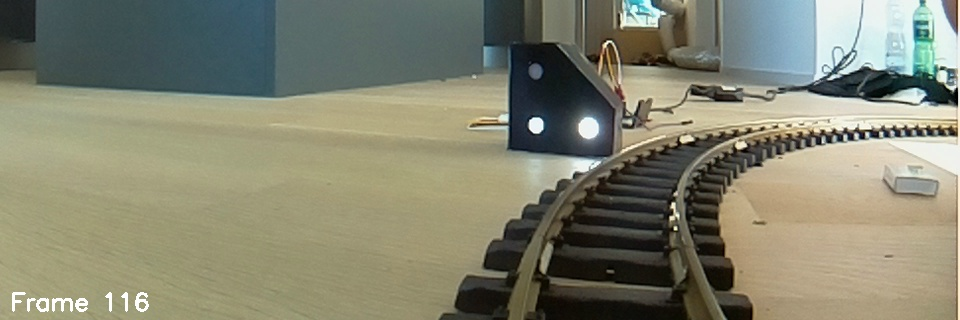Halt: (504, 37, 626, 163)
